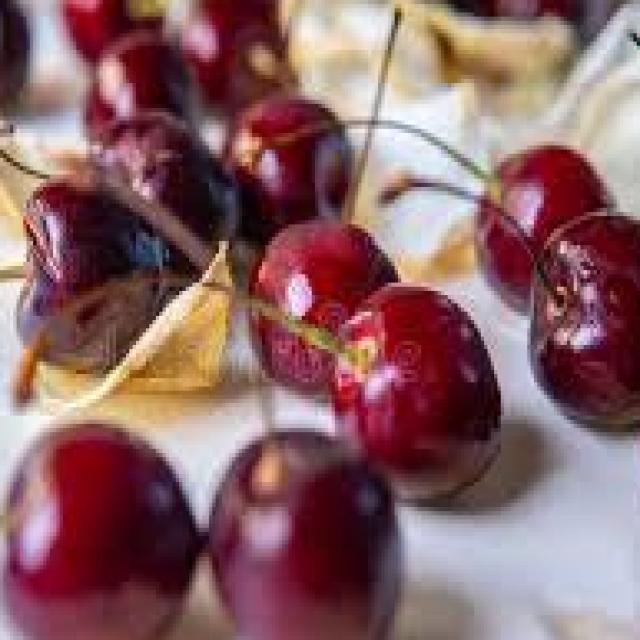inorganic: (6, 1, 632, 635)
